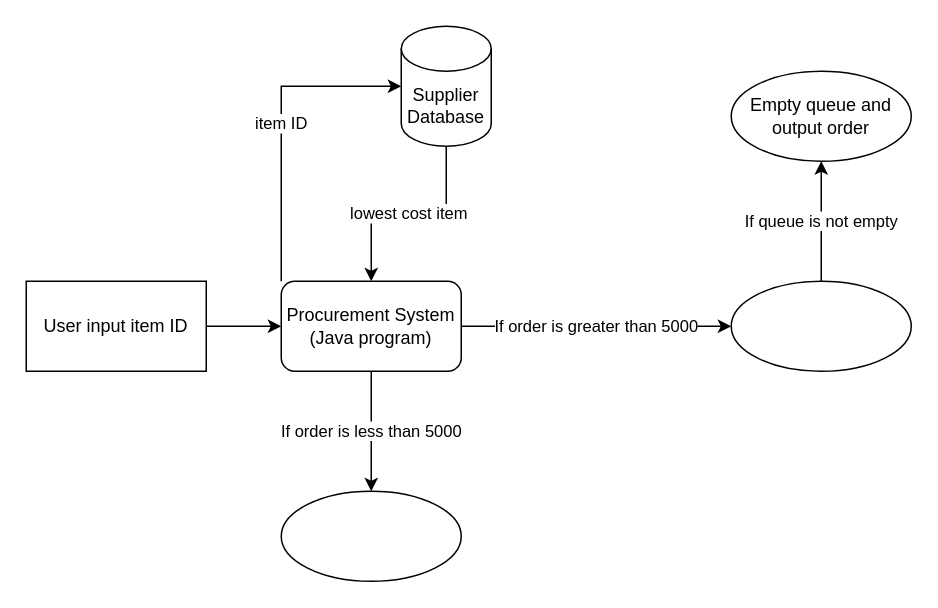
Some shapes in this 938 by 608 pixel diagram are drawn without their labels. The shapes that lost their labels are listed below. From the top down, each one's centre as x and y in pixels, then its label:
At point (820, 325): "Add to queue".
At point (370, 535): "Order the item".
